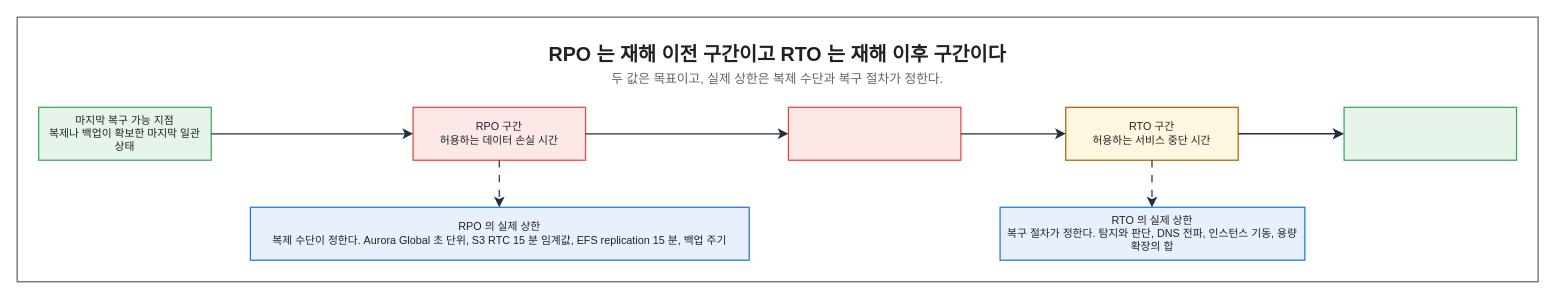
Image size: 1556x300. Some labels were removed from this diagram. Each missing label, with the centre of its shape:
"서비스 재개 정상 트래픽 처리 복귀" belongs at (x=1430, y=133).
"재해 발생 장애를 인지한 시점이 아니라 발생 시점" belongs at (x=874, y=133).
